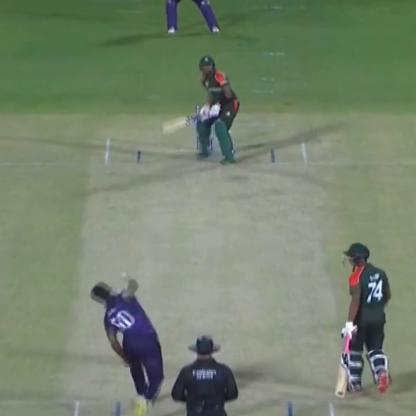ball: (113, 266, 131, 283)
bat: (329, 330, 358, 406), (157, 110, 216, 131)
pitch: (68, 131, 340, 415)
